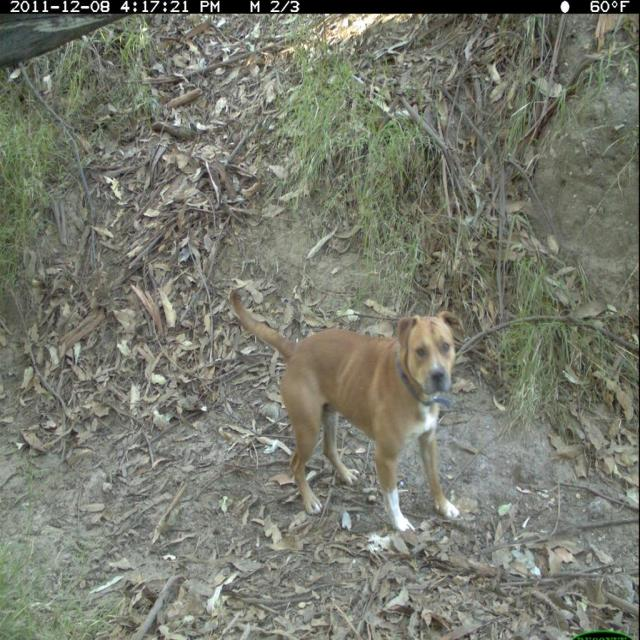dog: (219, 277, 471, 546)
